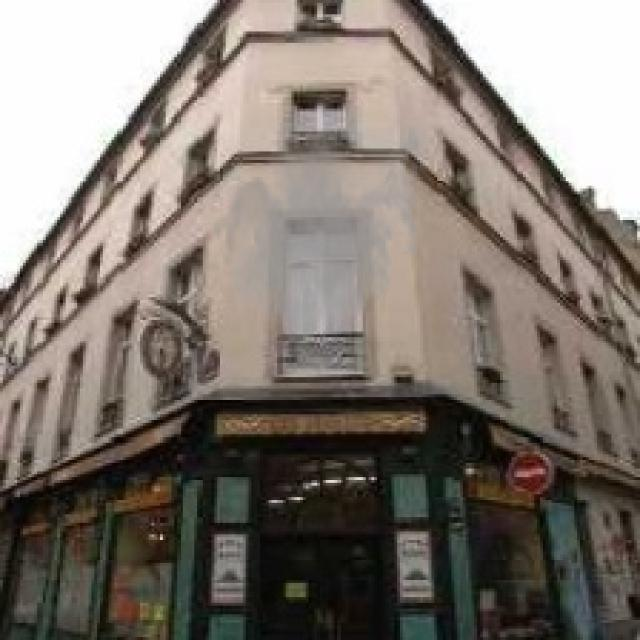smoke: (208, 86, 432, 351)
